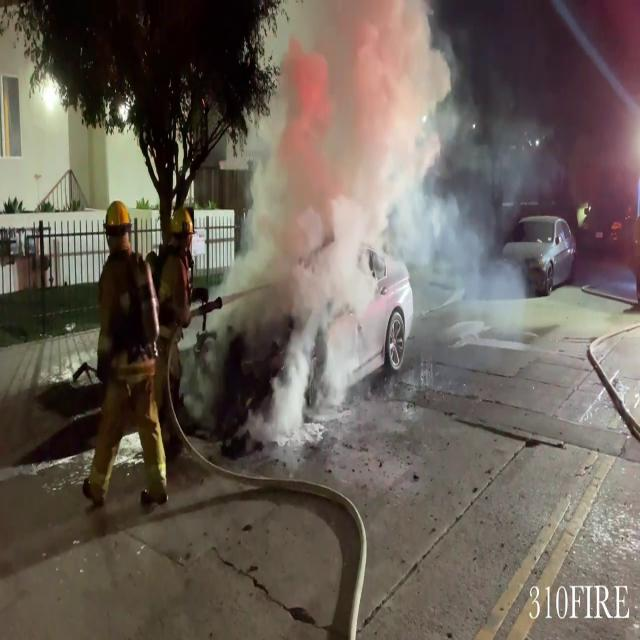Smoke: (216, 0, 540, 461)
